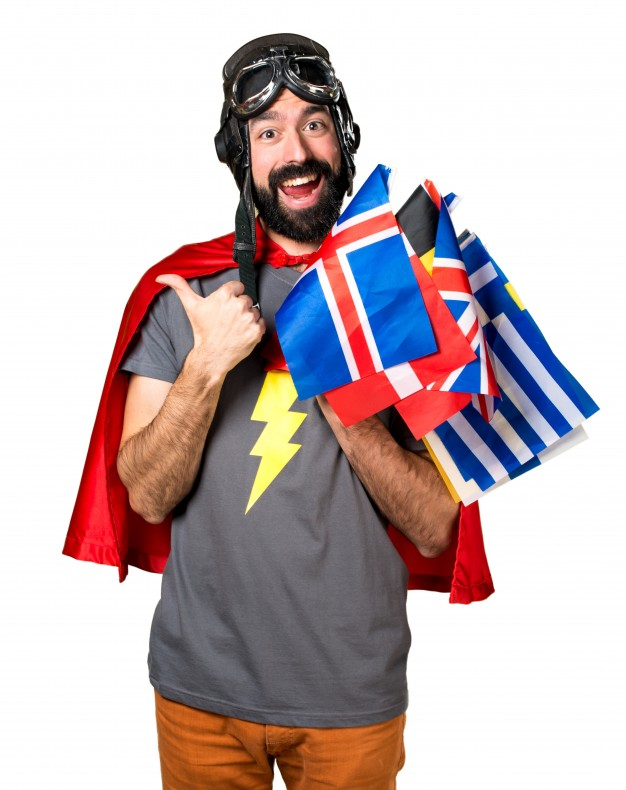thumbsup: (155, 273, 268, 340)
